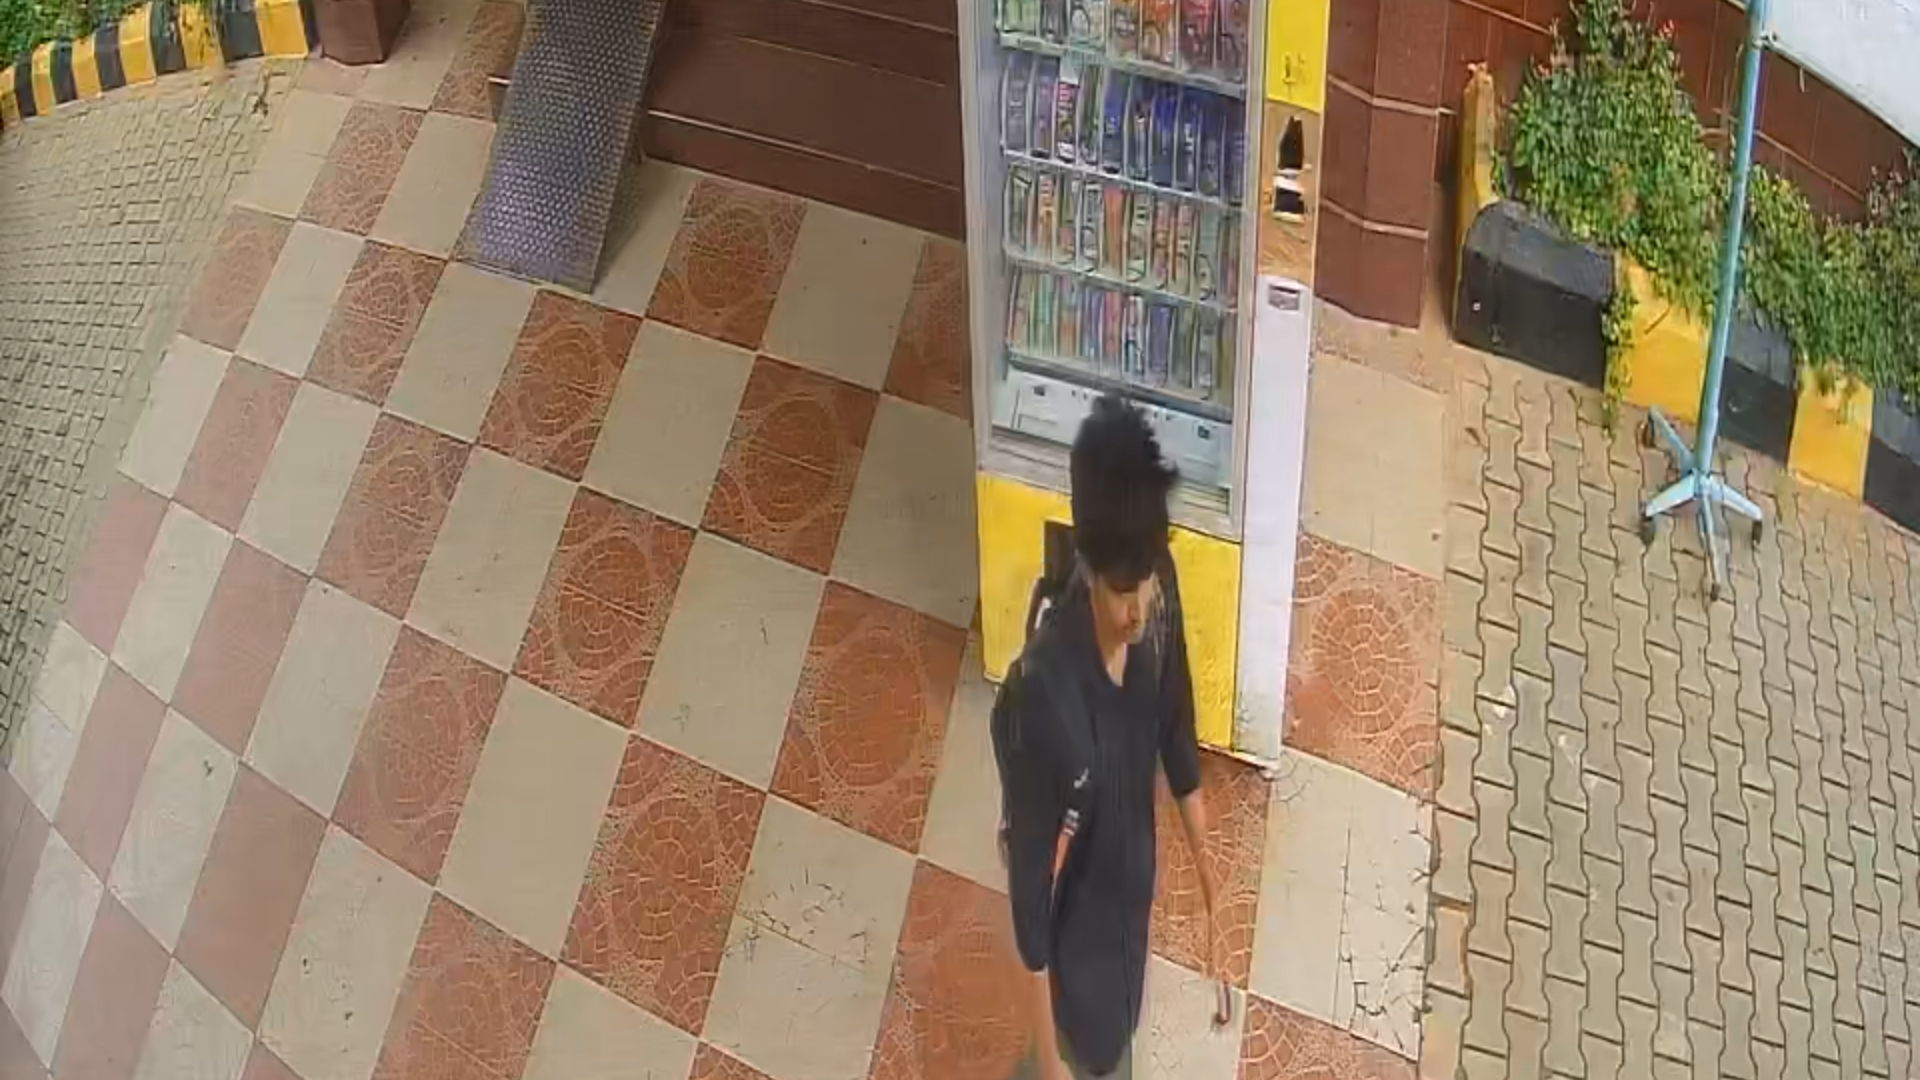intruder: (998, 376, 1213, 1080)
